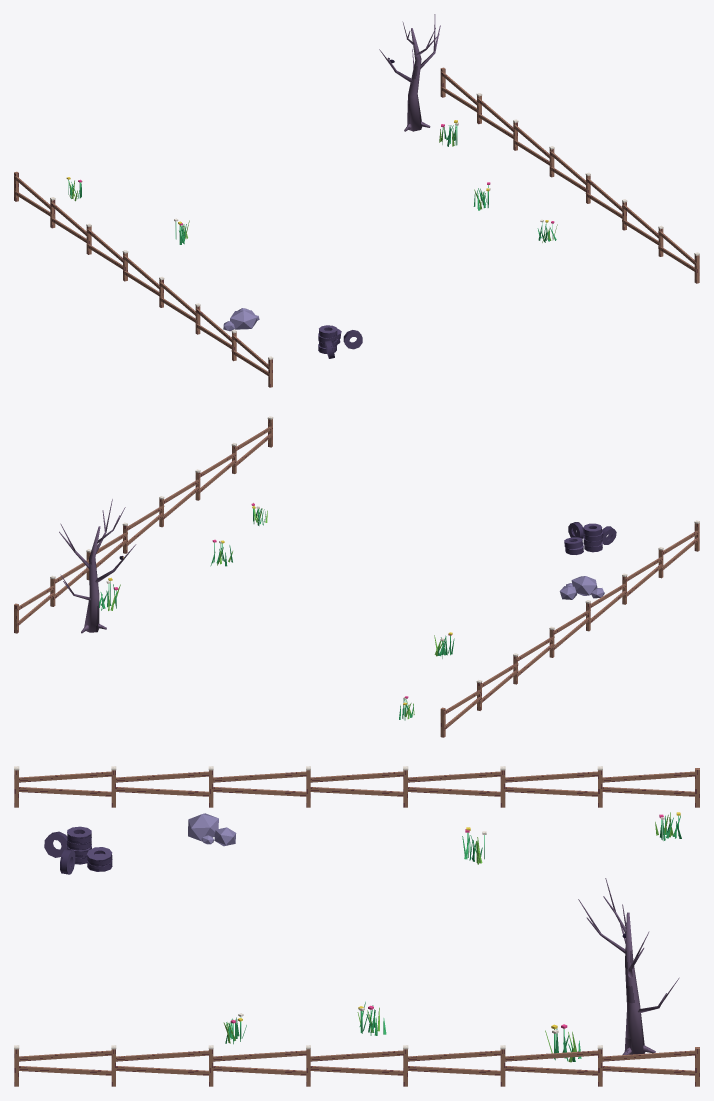
Rendered from Rural Straight Dressing.fbx.
3 renders of one model, top to bottom at view 1: azimuth 30°, elevation 25°; view 2: azimuth 150°, elevation 25°; view 3: azimuth 270°, elevation 25°, orthographic. The views are drawn at different scales.
Parts seen in each view (by area): view 1: Rural Straight Dressing mesh; view 2: Rural Straight Dressing mesh; view 3: Rural Straight Dressing mesh.
Boxes of the visible parts, box(x1,y1,x2,y2) form: Rural Straight Dressing mesh: box(14, 14, 699, 387); Rural Straight Dressing mesh: box(14, 416, 699, 737); Rural Straight Dressing mesh: box(14, 766, 699, 1086).
Size of the model in its own units: 19.16 by 5.24 by 19.74.
15 materials, 15 textured.
